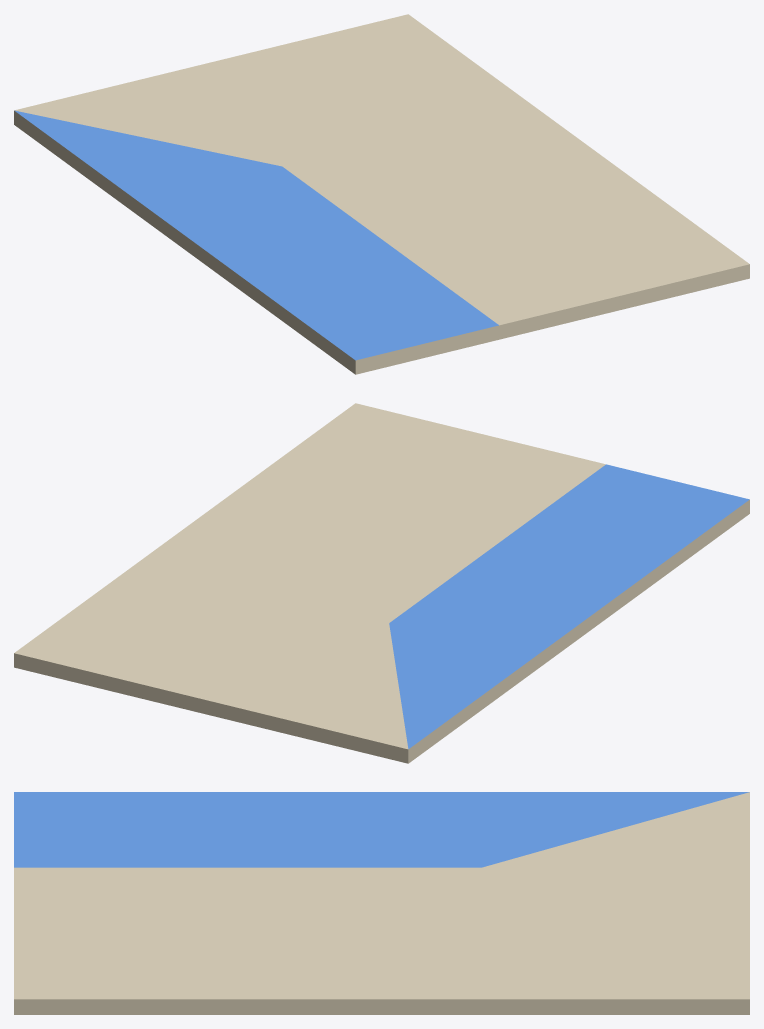
The model's file is meridian_power_plant_foundation.glb.
The picture shows the model from 3 angles, top to bottom: view 1: azimuth 30°, elevation 25°; view 2: azimuth 150°, elevation 25°; view 3: azimuth 270°, elevation 25°; orthographic projection. The views are drawn at different scales.
Parts seen in each view (by area): view 1: hull; view 2: hull; view 3: hull.
Part boxes in pixels (x1,y1,x2,y2): hull: (14,14,749,374); hull: (14,403,749,763); hull: (14,792,749,1014).
Bounding box in the file's own units: 7.2 × 0.25 × 10.8.
